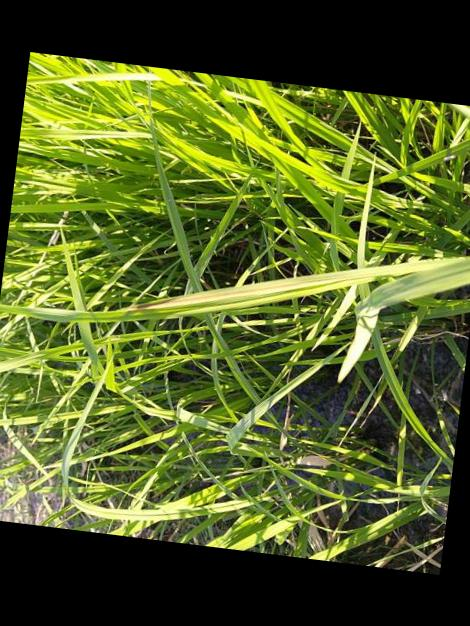Leaf Blight: (10, 266, 402, 321)
